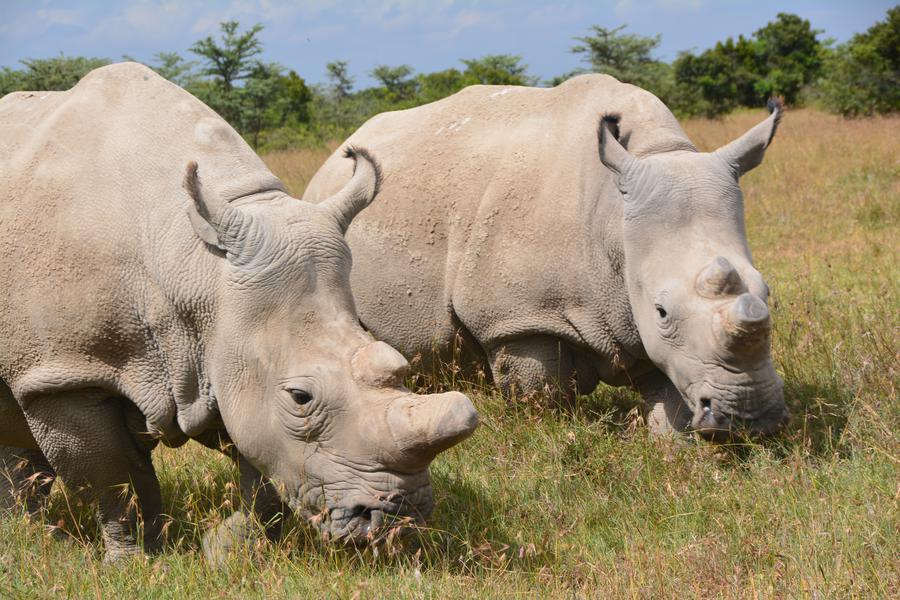rhino: (9, 70, 455, 553), (302, 55, 784, 394)
